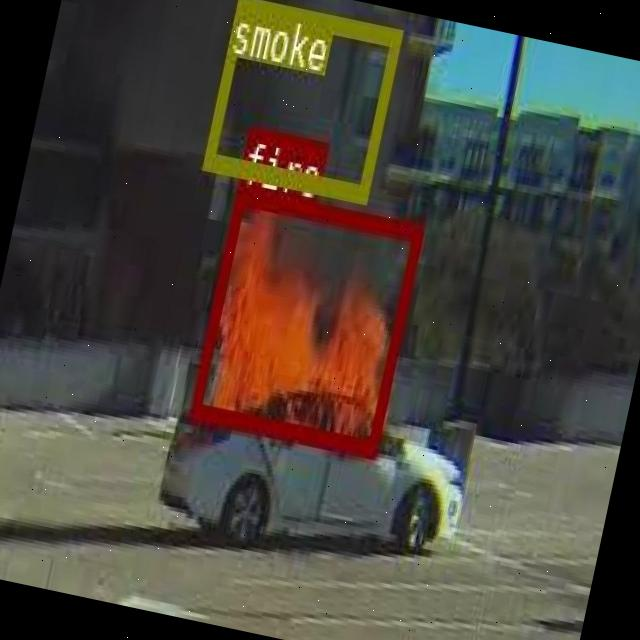fire: (186, 182, 424, 454)
smoke: (201, 0, 401, 199)
